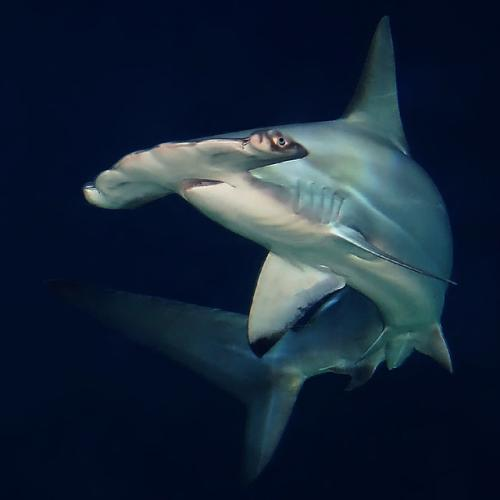shark-endangered: (83, 12, 459, 476)
